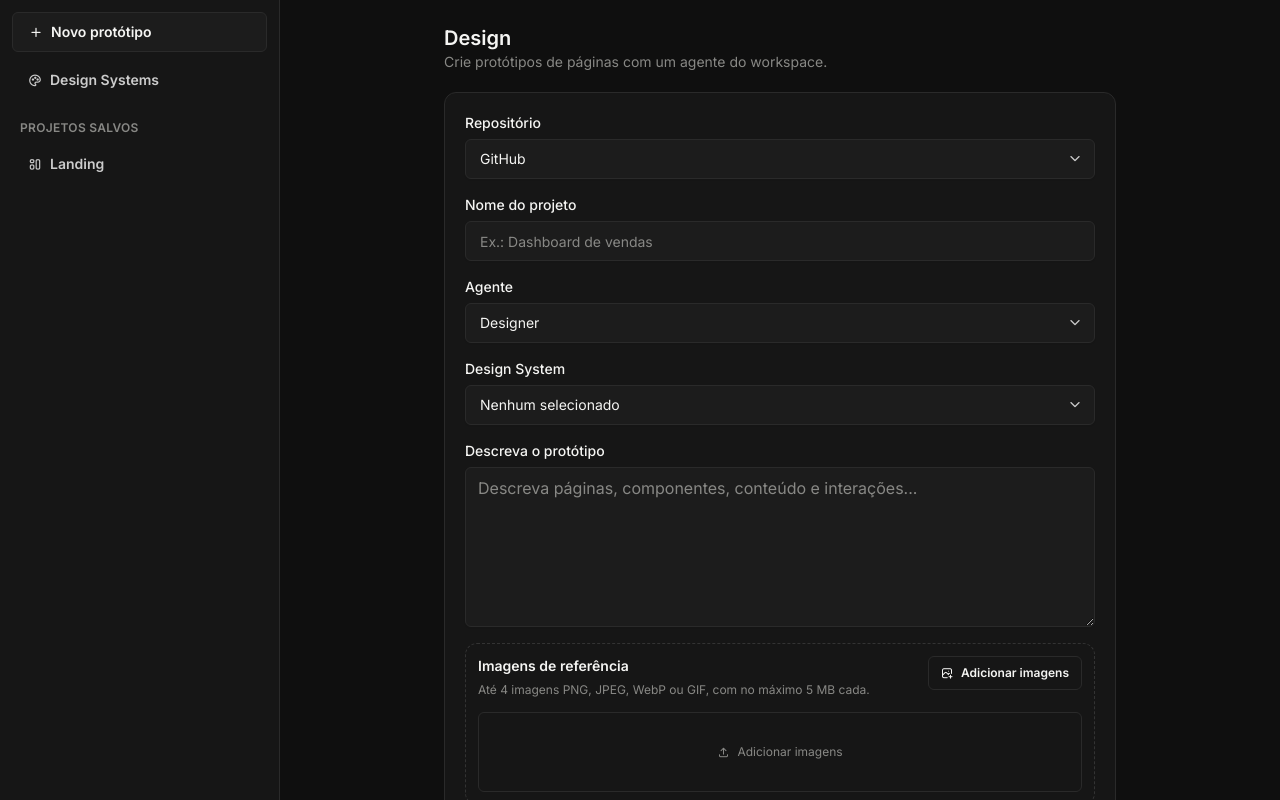
Test: DesignView prototype creation › reports a failed creation
expect the text "Landing" is shown: met, box [50,154,104,174]
Type " Landing " into the field labelled "Nome do projeto" at (780, 241), box [465,221,1095,261]
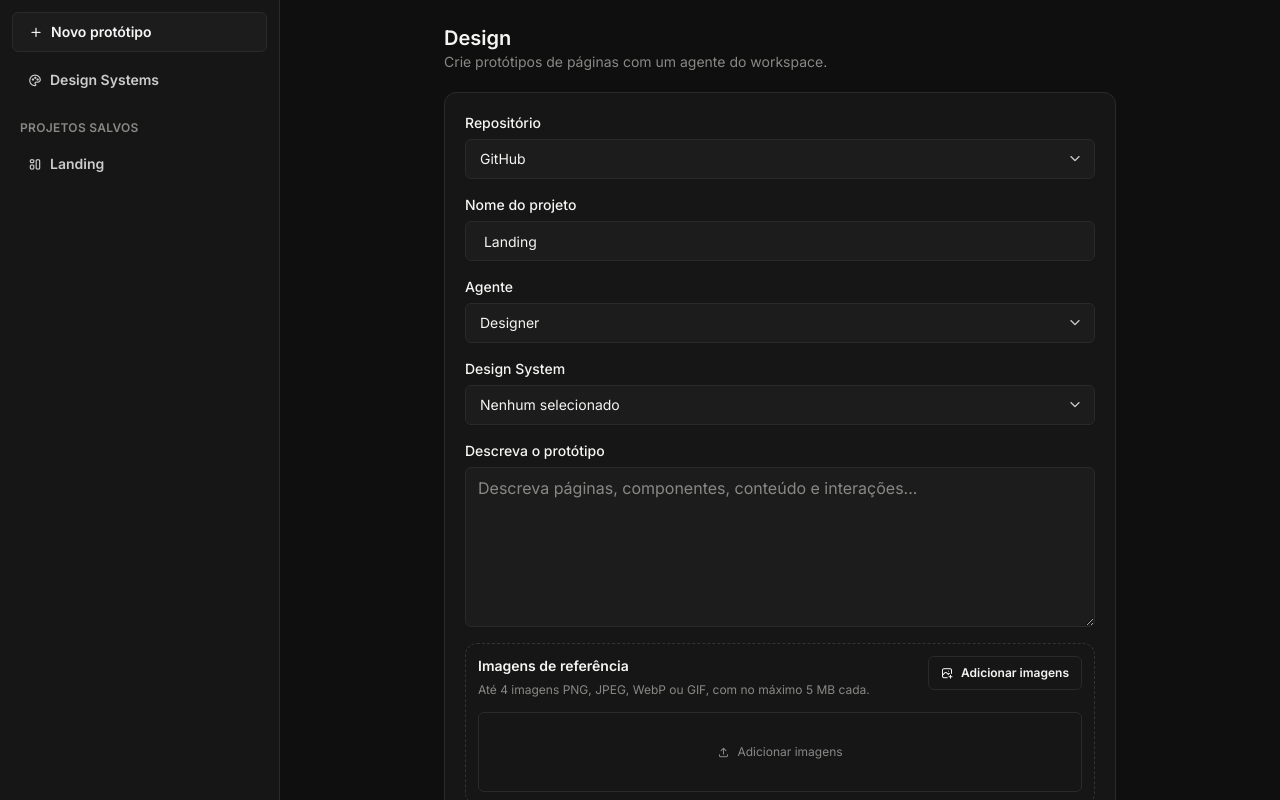
Type " A hero section " into the text box labelled "Descreva o protótipo" at (780, 547), box [465,467,1095,627]
(page scrolled)
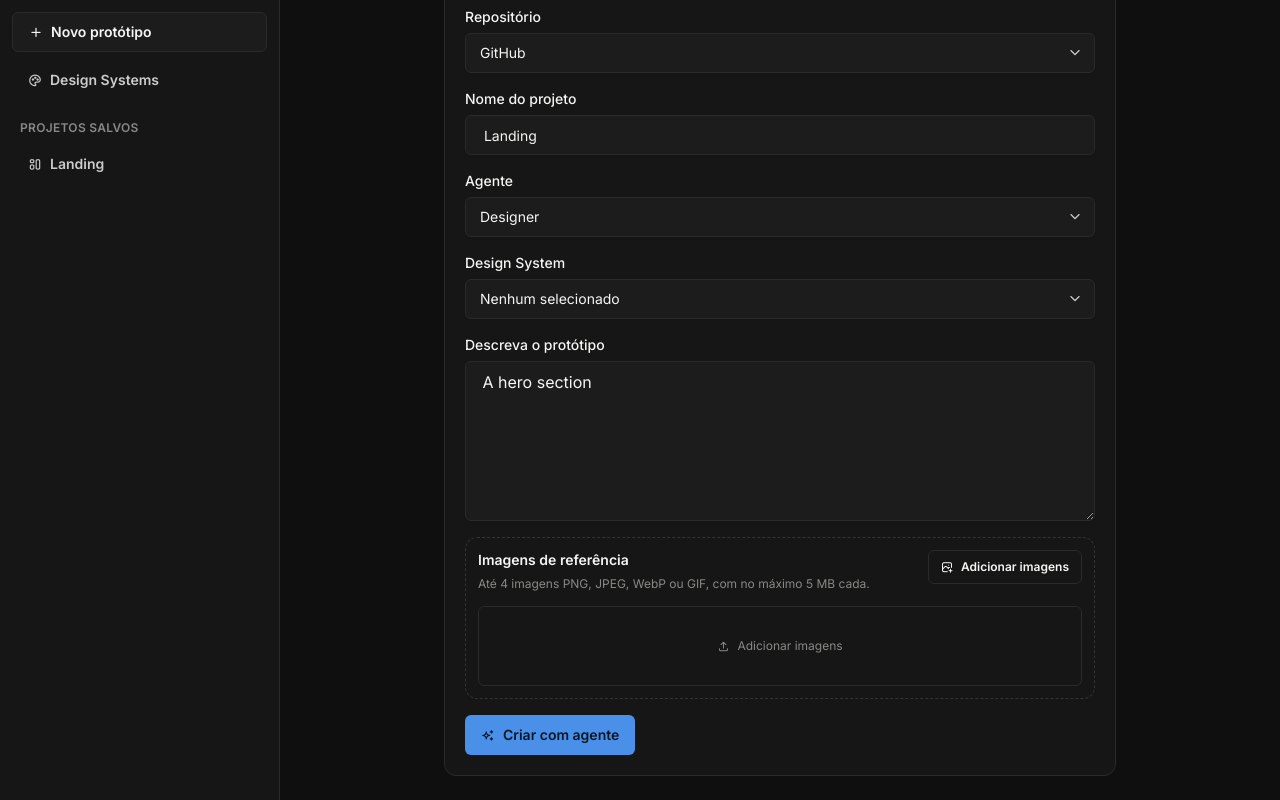
Click the button "Criar com agente" at (550, 735), box [465,715,635,755]
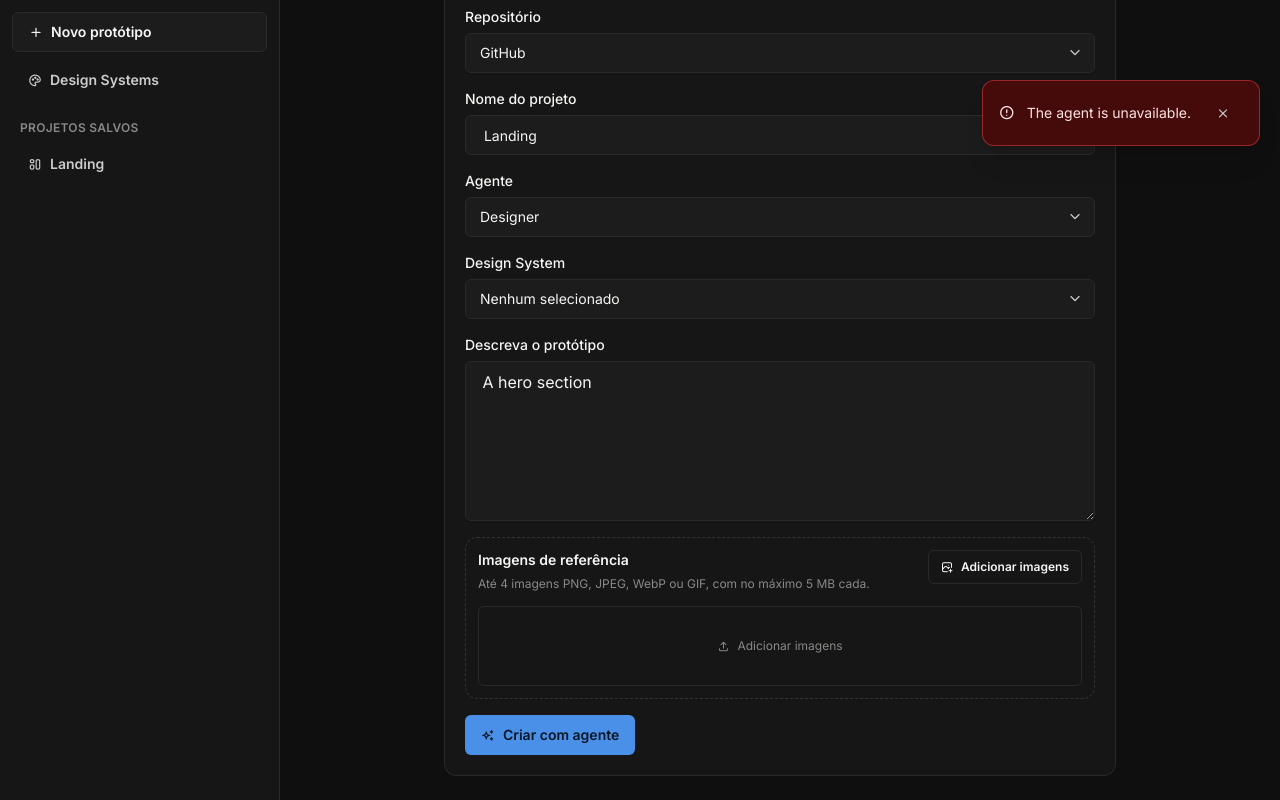
expect the text "The agent is unavailable." is shown: met, box [1027,103,1191,123]
